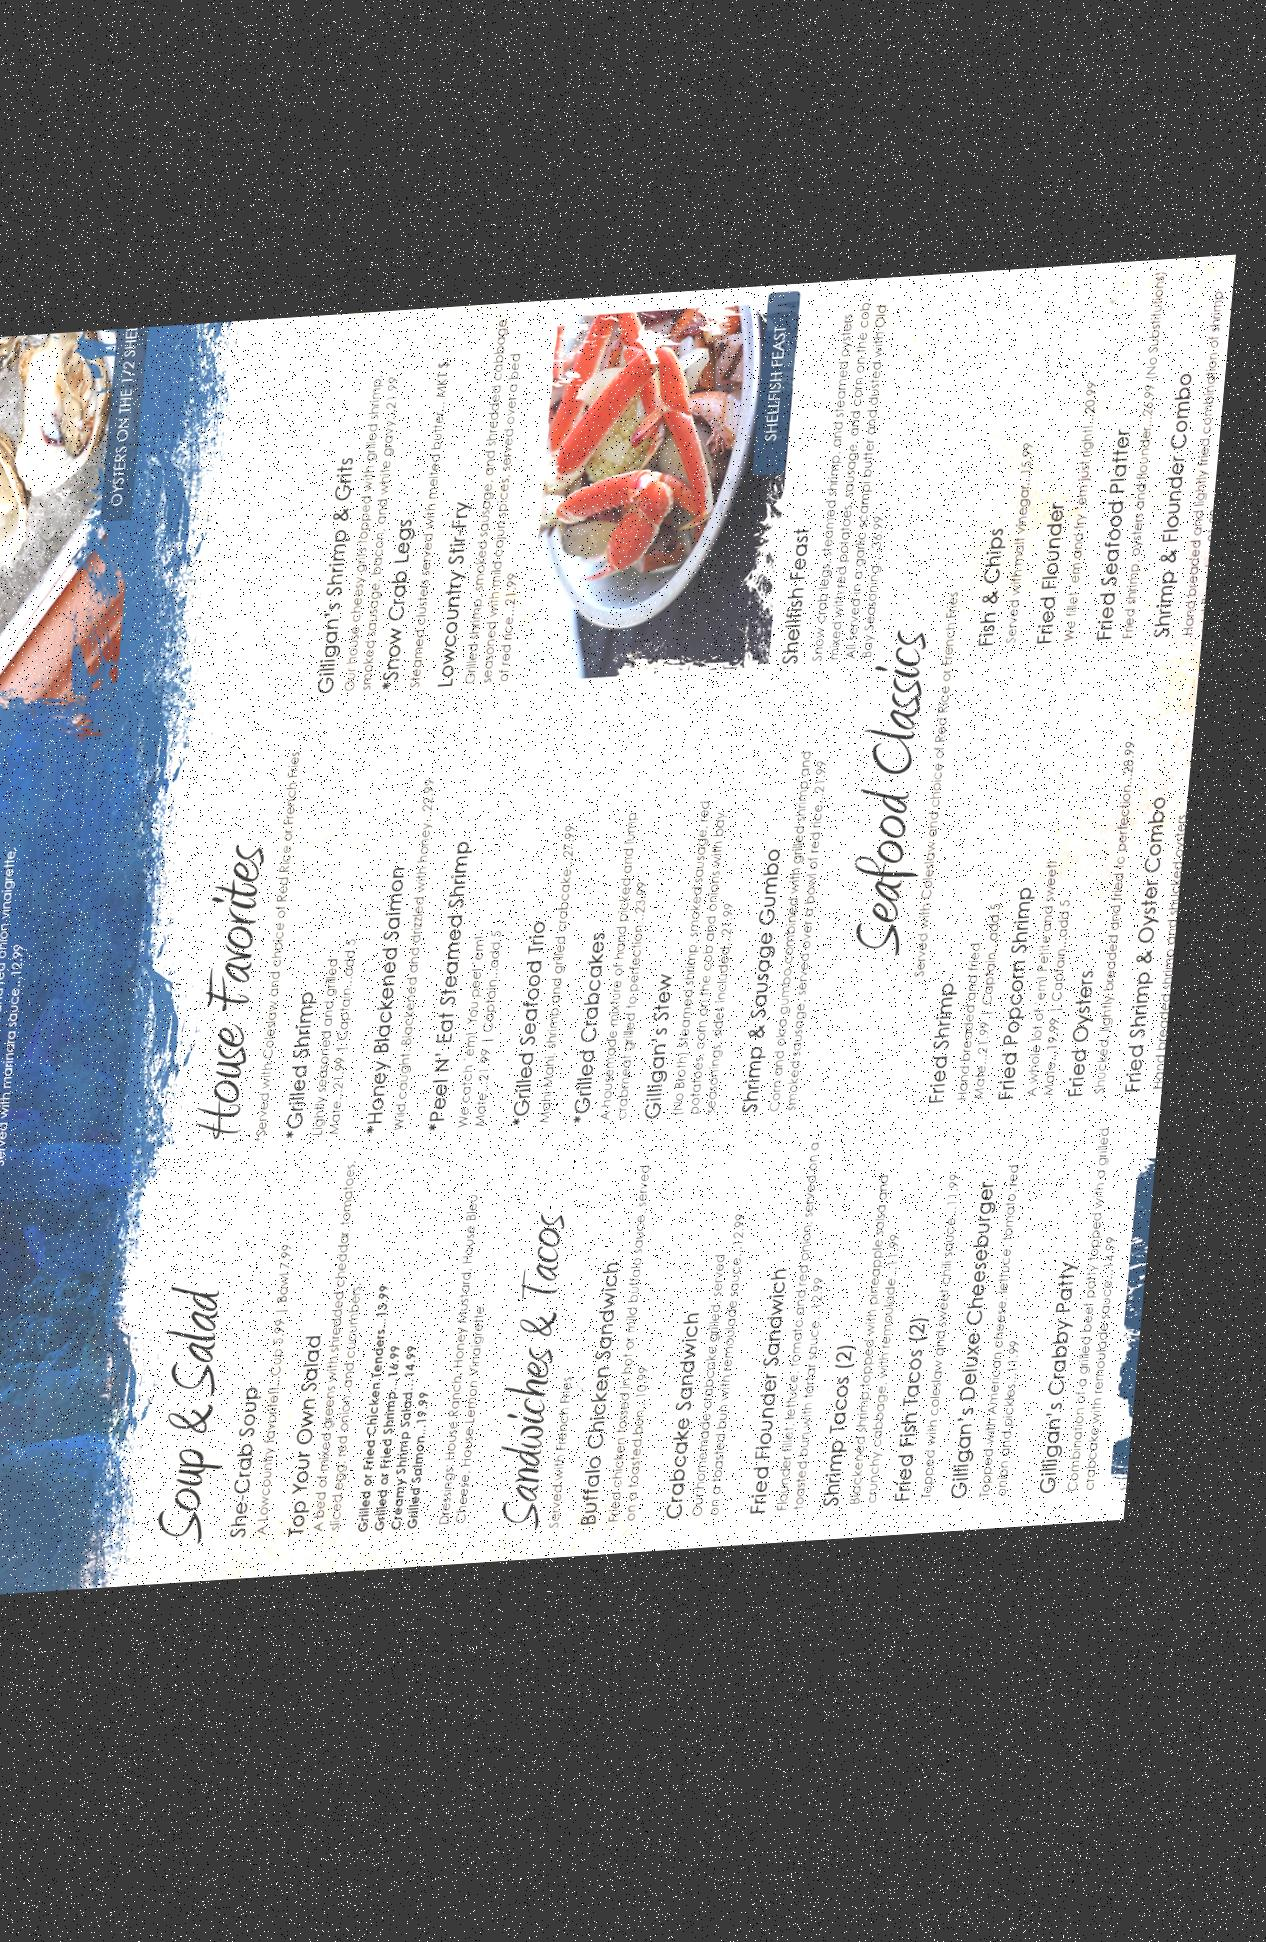Menu-Items: (658, 764, 775, 1139), (751, 747, 855, 1130), (1056, 1130, 1157, 1513), (840, 1168, 943, 1520), (384, 737, 472, 1147), (609, 1158, 704, 1536), (309, 1156, 398, 1556), (585, 773, 678, 1151), (449, 780, 541, 1155), (683, 1209, 785, 1543), (776, 1141, 861, 1536), (1080, 726, 1164, 1121), (973, 1179, 1066, 1520), (515, 787, 605, 1141), (1102, 282, 1181, 668), (1160, 283, 1242, 655), (300, 839, 392, 1166), (372, 1258, 473, 1544), (918, 1176, 993, 1529), (1011, 841, 1099, 1134), (1037, 378, 1117, 671), (933, 904, 1034, 1135), (1137, 790, 1207, 1117), (252, 1237, 323, 1556), (0, 829, 64, 1178), (0, 1248, 51, 1567), (981, 440, 1049, 677)
